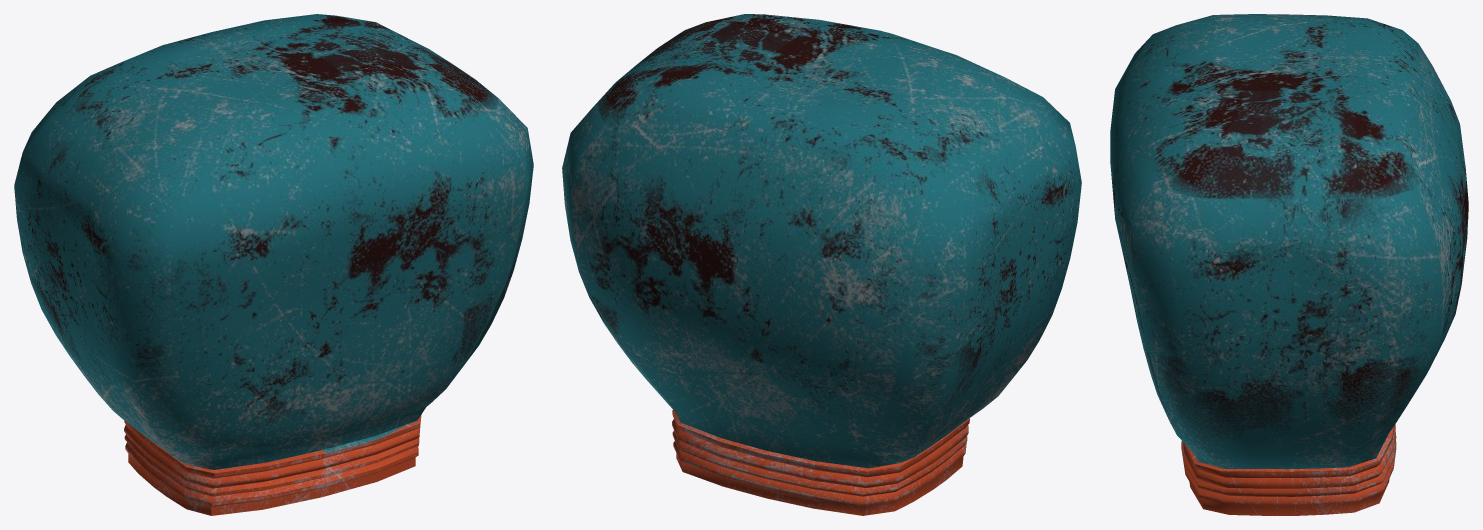
File: Body.fbx
3 views of the same model, side by side, from view 1: azimuth 30°, elevation 25°; view 2: azimuth 150°, elevation 25°; view 3: azimuth 270°, elevation 25° (orthographic).
Visible parts, largest first — view 1: Body; view 2: Body; view 3: Body.
Boxes of the visible parts, <box> form: Body: <box>14,14,533,515</box>; Body: <box>562,14,1081,515</box>; Body: <box>1110,14,1468,515</box>.
Bounding box in the file's own units: 61.65 × 55.73 × 46.22.
